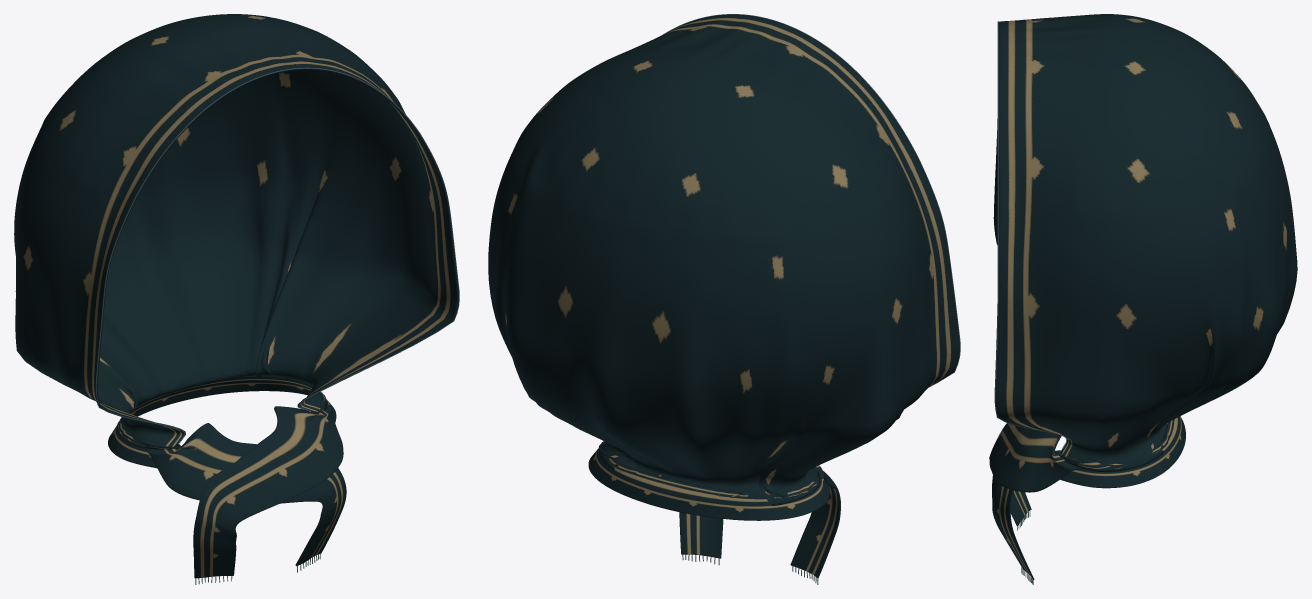
Rendered from Feminine-tshirt-pashmina237-headgear.glb.
The picture shows the model from 3 angles, left to right: view 1: azimuth 30°, elevation 25°; view 2: azimuth 150°, elevation 25°; view 3: azimuth 270°, elevation 25°; orthographic projection. The views are drawn at different scales.
Parts seen in each view (by area): view 1: 226 headgear / Headwear / continuous woven pashmina237, 226 headgear / Headwear / face edge237; view 2: 226 headgear / Headwear / continuous woven pashmina237, 226 headgear / Headwear / face edge237; view 3: 226 headgear / Headwear / continuous woven pashmina237, 226 headgear / Headwear / face edge237.
Part boxes in pixels (bbox=[...]): 226 headgear / Headwear / continuous woven pashmina237: bbox=[14, 14, 458, 578]; 226 headgear / Headwear / face edge237: bbox=[95, 67, 459, 443]; 226 headgear / Headwear / continuous woven pashmina237: bbox=[488, 14, 959, 578]; 226 headgear / Headwear / face edge237: bbox=[663, 14, 960, 387]; 226 headgear / Headwear / continuous woven pashmina237: bbox=[989, 14, 1297, 579]; 226 headgear / Headwear / face edge237: bbox=[994, 21, 1067, 449].
Size of the model in its own units: 1.02 by 1.35 by 0.7228.
3 materials, 1 textured.
